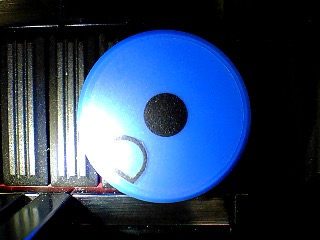BOHOMIPO1: (75, 28, 252, 204)
